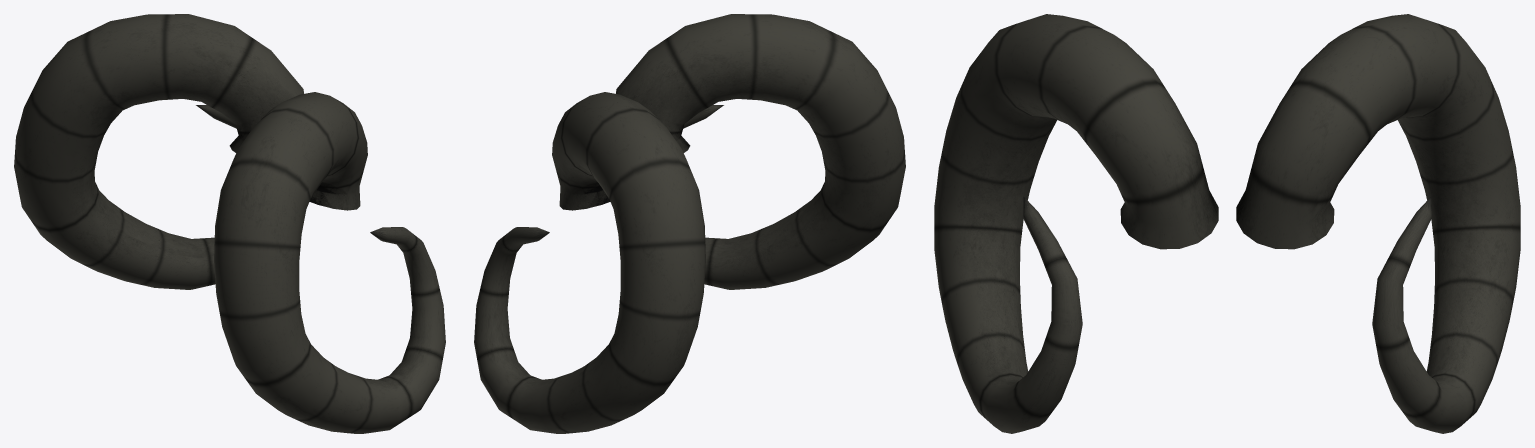
File: SM_RamGoatHorns.fbx
The picture shows the model from 3 angles, left to right: view 1: azimuth 30°, elevation 25°; view 2: azimuth 150°, elevation 25°; view 3: azimuth 270°, elevation 25°; orthographic projection. The views are drawn at different scales.
Parts seen in each view (by area): view 1: SM_RamHorns; view 2: SM_RamHorns; view 3: SM_RamHorns.
Part boxes in pixels (bbox=[...]): SM_RamHorns: bbox=[14, 14, 445, 433]; SM_RamHorns: bbox=[474, 14, 905, 433]; SM_RamHorns: bbox=[934, 14, 1520, 433].
Bounding box in the file's own units: 28.17 × 49.39 × 33.6.
